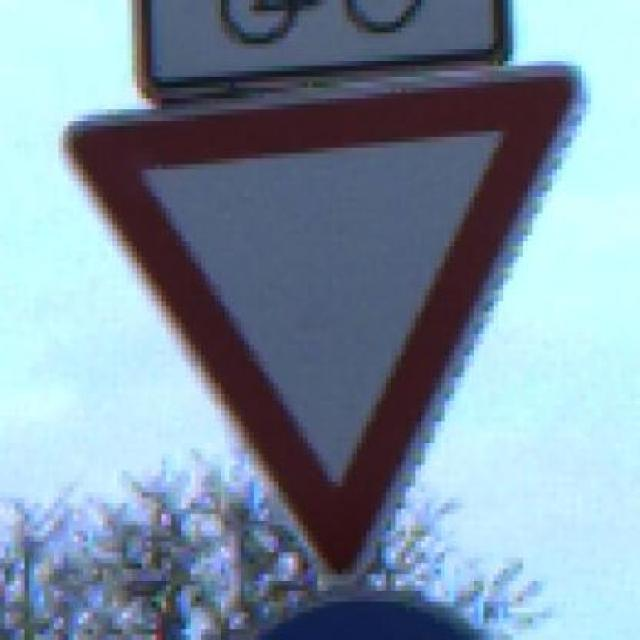Give Way: (39, 56, 630, 598)
